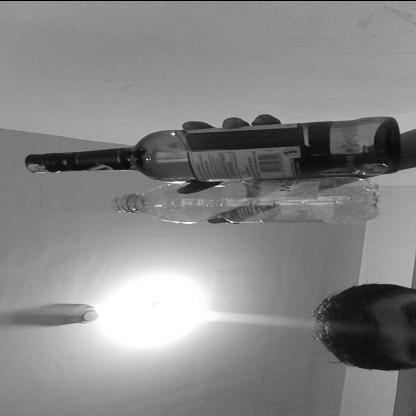objects: (20, 114, 401, 182)
plastic_bottles: (112, 174, 380, 224)
